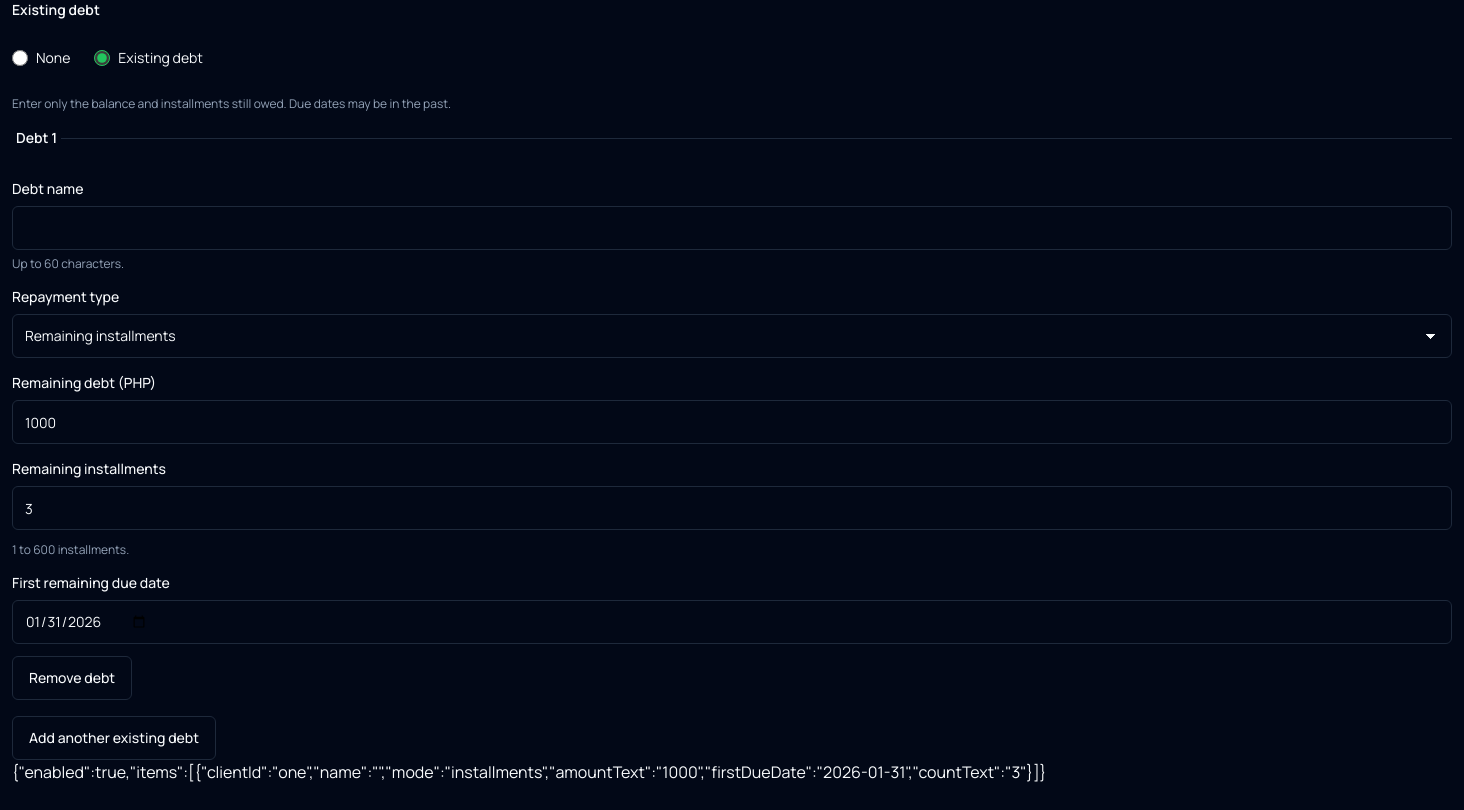
it: shared existing debt fields › withholds preview until the whole item is valid
The image size is (1464, 810).
Expected: the text "Total existing debt" is not shown
In the field labelled "Debt name": [732, 228] box [12,206,1452,250], type "Phone"
(page scrolled)
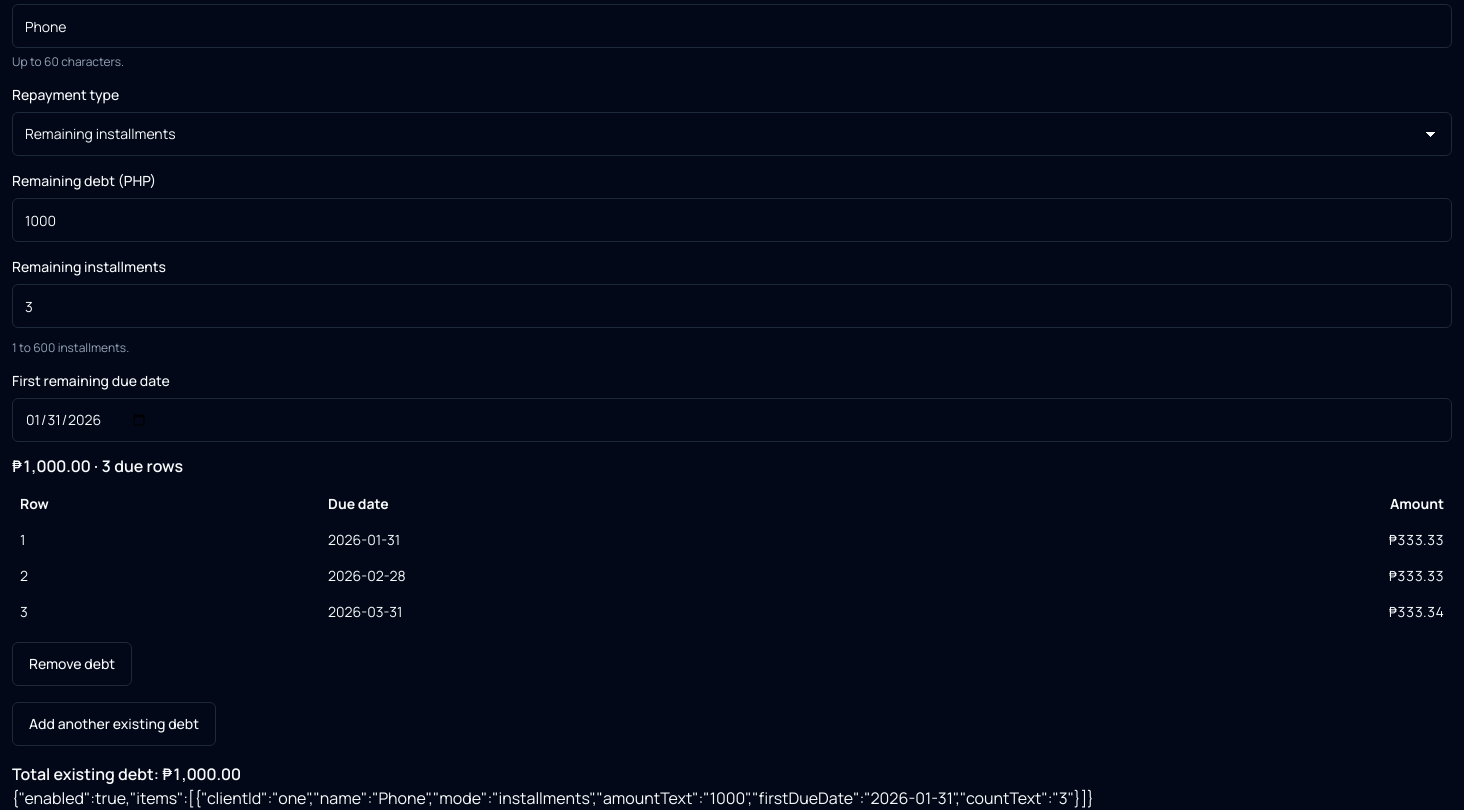
Expected: the table is shown, [12,486,1452,630]
